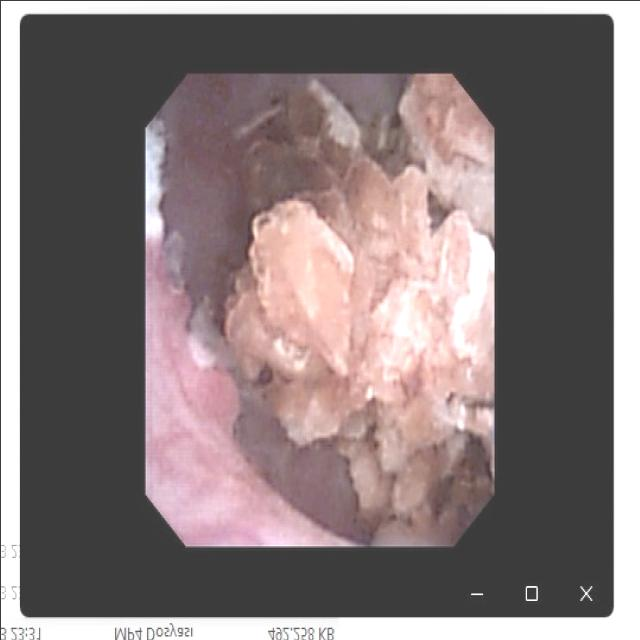stone: (228, 80, 486, 540)
